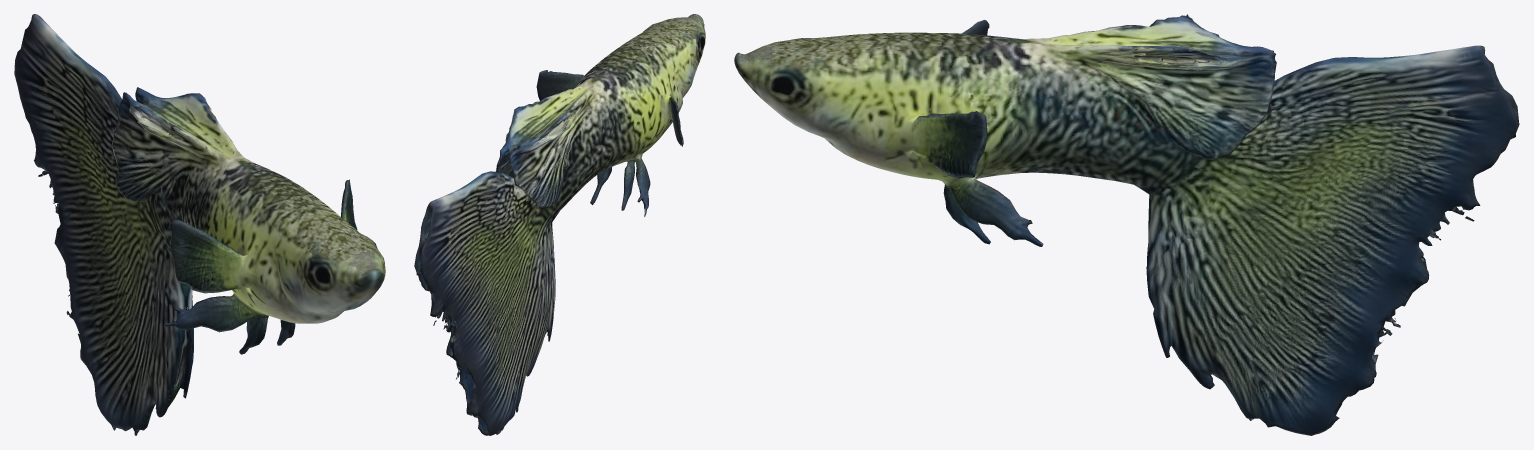
File: guppy_green_snakeskin_mesh.glb
The picture shows the model from 3 angles, left to right: view 1: azimuth 30°, elevation 25°; view 2: azimuth 150°, elevation 25°; view 3: azimuth 270°, elevation 25°; orthographic projection. The views are drawn at different scales.
Bounding box in the file's own units: 0.59 × 1.14 × 2.
1 material, 1 textured.
